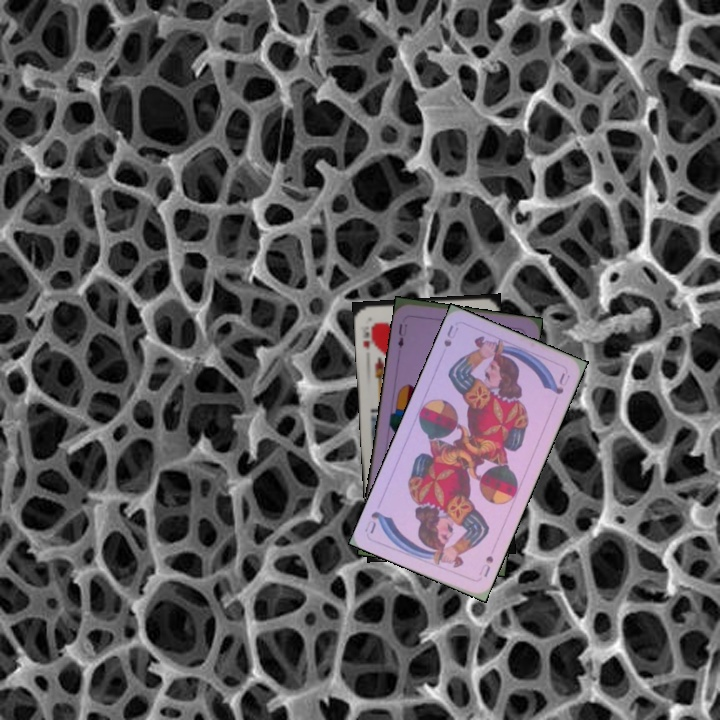EU: (394, 320, 410, 350)
HK: (358, 318, 377, 352)
SU: (439, 321, 461, 349), (475, 551, 496, 580)
